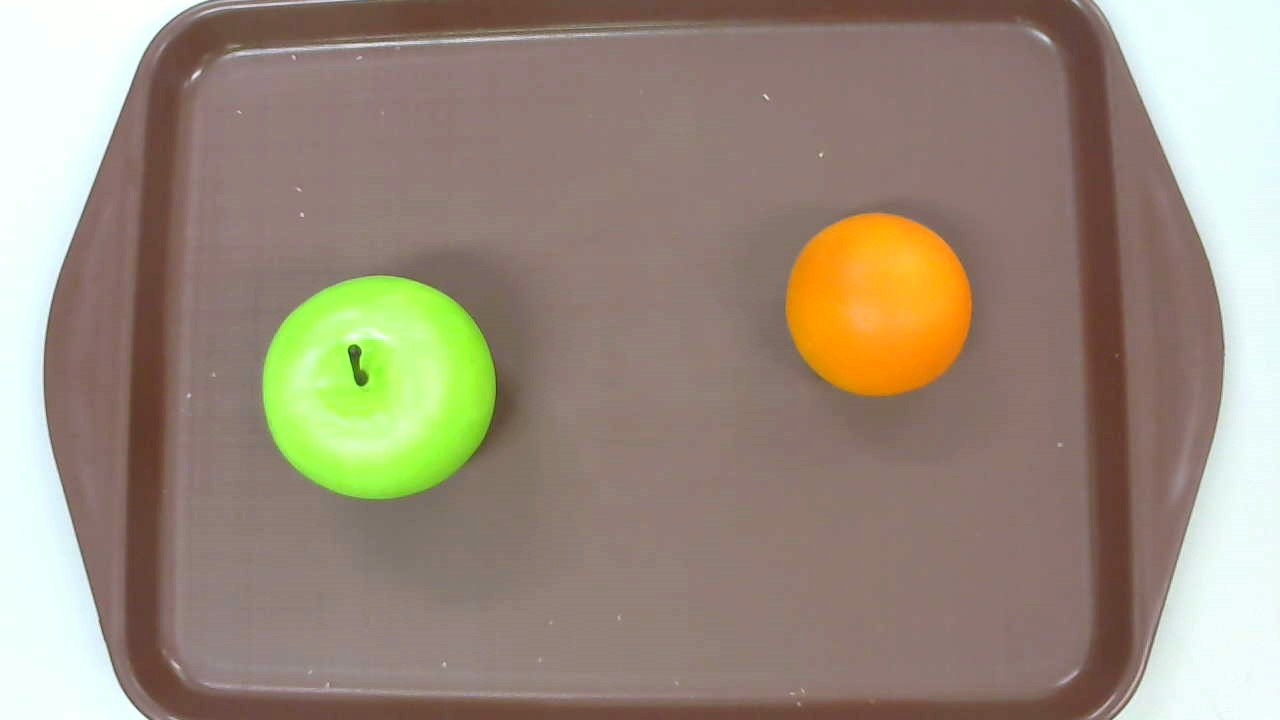bun: (785, 211, 971, 399)
green apple: (261, 272, 498, 500)
